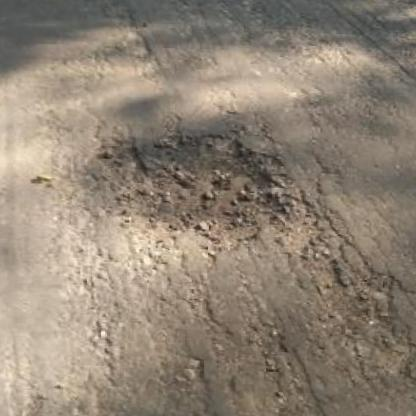pothole: (93, 124, 302, 240)
